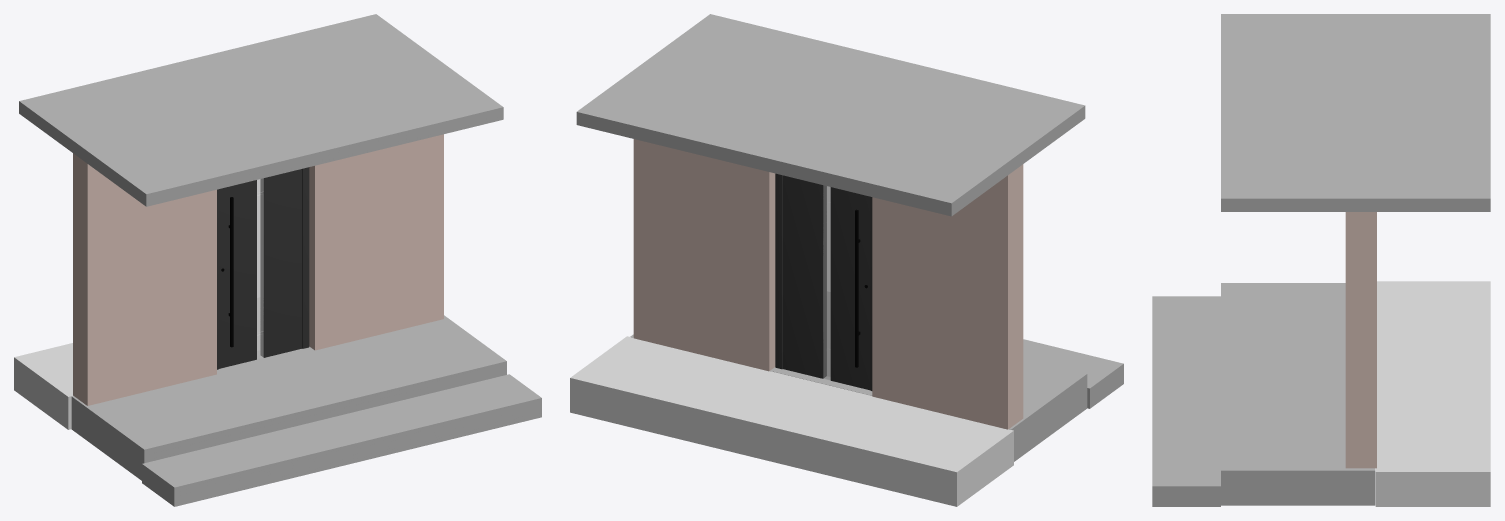
Rendered from full-redenumit-filled1.fbx.
3 renders of one model, left to right at view 1: azimuth 30°, elevation 25°; view 2: azimuth 150°, elevation 25°; view 3: azimuth 270°, elevation 25°, orthographic. The views are drawn at different scales.
Visible parts, largest first — view 1: Plane012, PereteDreapta, Plane010, PereteStanga, Plane011, FoaieStanga, FoaieDreapta, Plane013, RamaStanga, Sticla, Maner; view 2: Plane012, Plane013, PereteDreapta, PereteStanga, FoaieStanga, FoaieDreapta, Plane010, Plane011, RamaStanga, Sticla, Maner; view 3: Plane012, Plane010, Plane013, Plane011, PereteStanga.
Boxes of the visible parts, x1,y1,x2,y2 form: Plane012: (19,14,503,206); PereteDreapta: (73,153,216,405); Plane010: (71,315,506,480); PereteStanga: (309,134,443,350); Plane011: (142,374,541,506); FoaieStanga: (260,169,302,357); FoaieDreapta: (218,180,256,368); Plane013: (14,298,259,429); RamaStanga: (302,167,309,348); Sticla: (257,178,263,358); Maner: (228,197,233,347); Plane012: (576,14,1085,216); Plane013: (570,336,1013,506); PereteDreapta: (872,164,1023,429); PereteStanga: (633,139,775,371); FoaieStanga: (783,175,826,378); FoaieDreapta: (830,187,870,390); Plane010: (630,311,1087,461); Plane011: (827,292,1123,408); RamaStanga: (775,173,782,369); Sticla: (823,185,830,379); Maner: (855,209,860,367); Plane012: (1221,14,1490,211); Plane010: (1221,283,1375,505); Plane013: (1375,281,1490,506); Plane011: (1152,296,1220,506); PereteStanga: (1345,212,1376,468).
Bounding box in the file's own units: 414 × 309 × 311.
